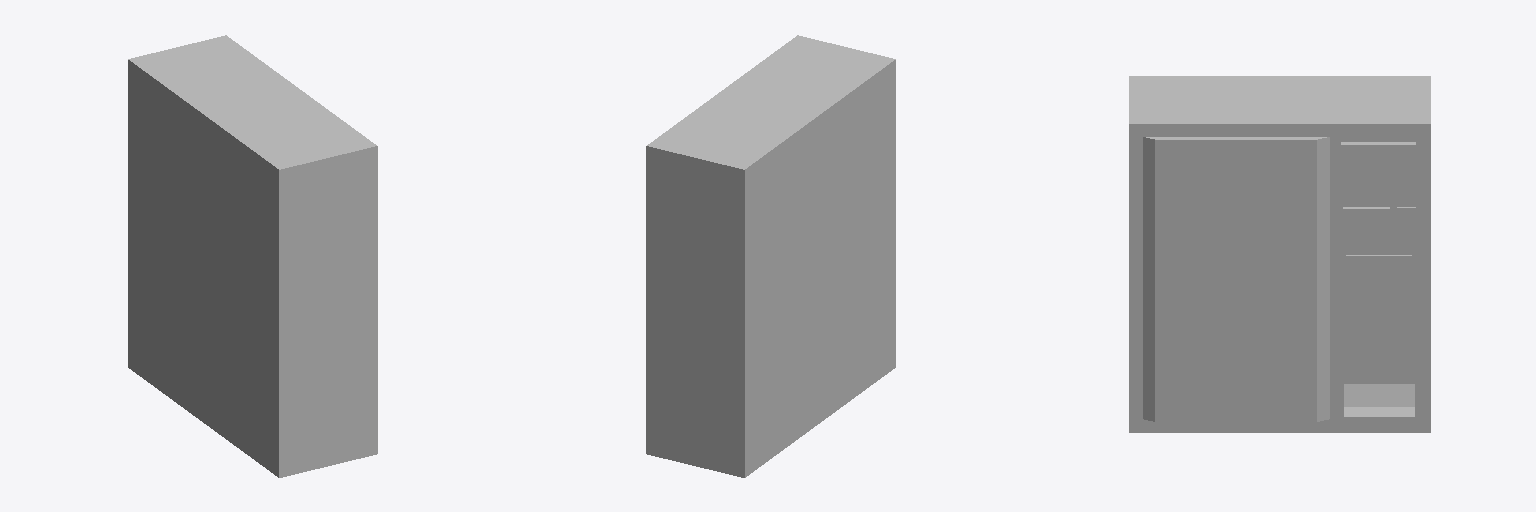
File: vendingmachine.obj
3 views of the same model, side by side, from view 1: azimuth 30°, elevation 25°; view 2: azimuth 150°, elevation 25°; view 3: azimuth 270°, elevation 25° (orthographic).
Visible parts, largest first — view 1: pCube8; view 2: pCube8; view 3: pCube2, pCube8, pCube6, pCube3, pCube5, pCube4.
Boxes of the visible parts, x1,y1,x2,y2 form: pCube8: [128, 35, 377, 477]; pCube8: [646, 35, 895, 477]; pCube2: [1143, 137, 1329, 421]; pCube8: [1129, 76, 1430, 432]; pCube6: [1346, 255, 1411, 371]; pCube3: [1341, 142, 1415, 200]; pCube5: [1343, 207, 1389, 249]; pCube4: [1397, 207, 1415, 248].
Size of the model in its own units: 1.6 by 4.5 by 4.